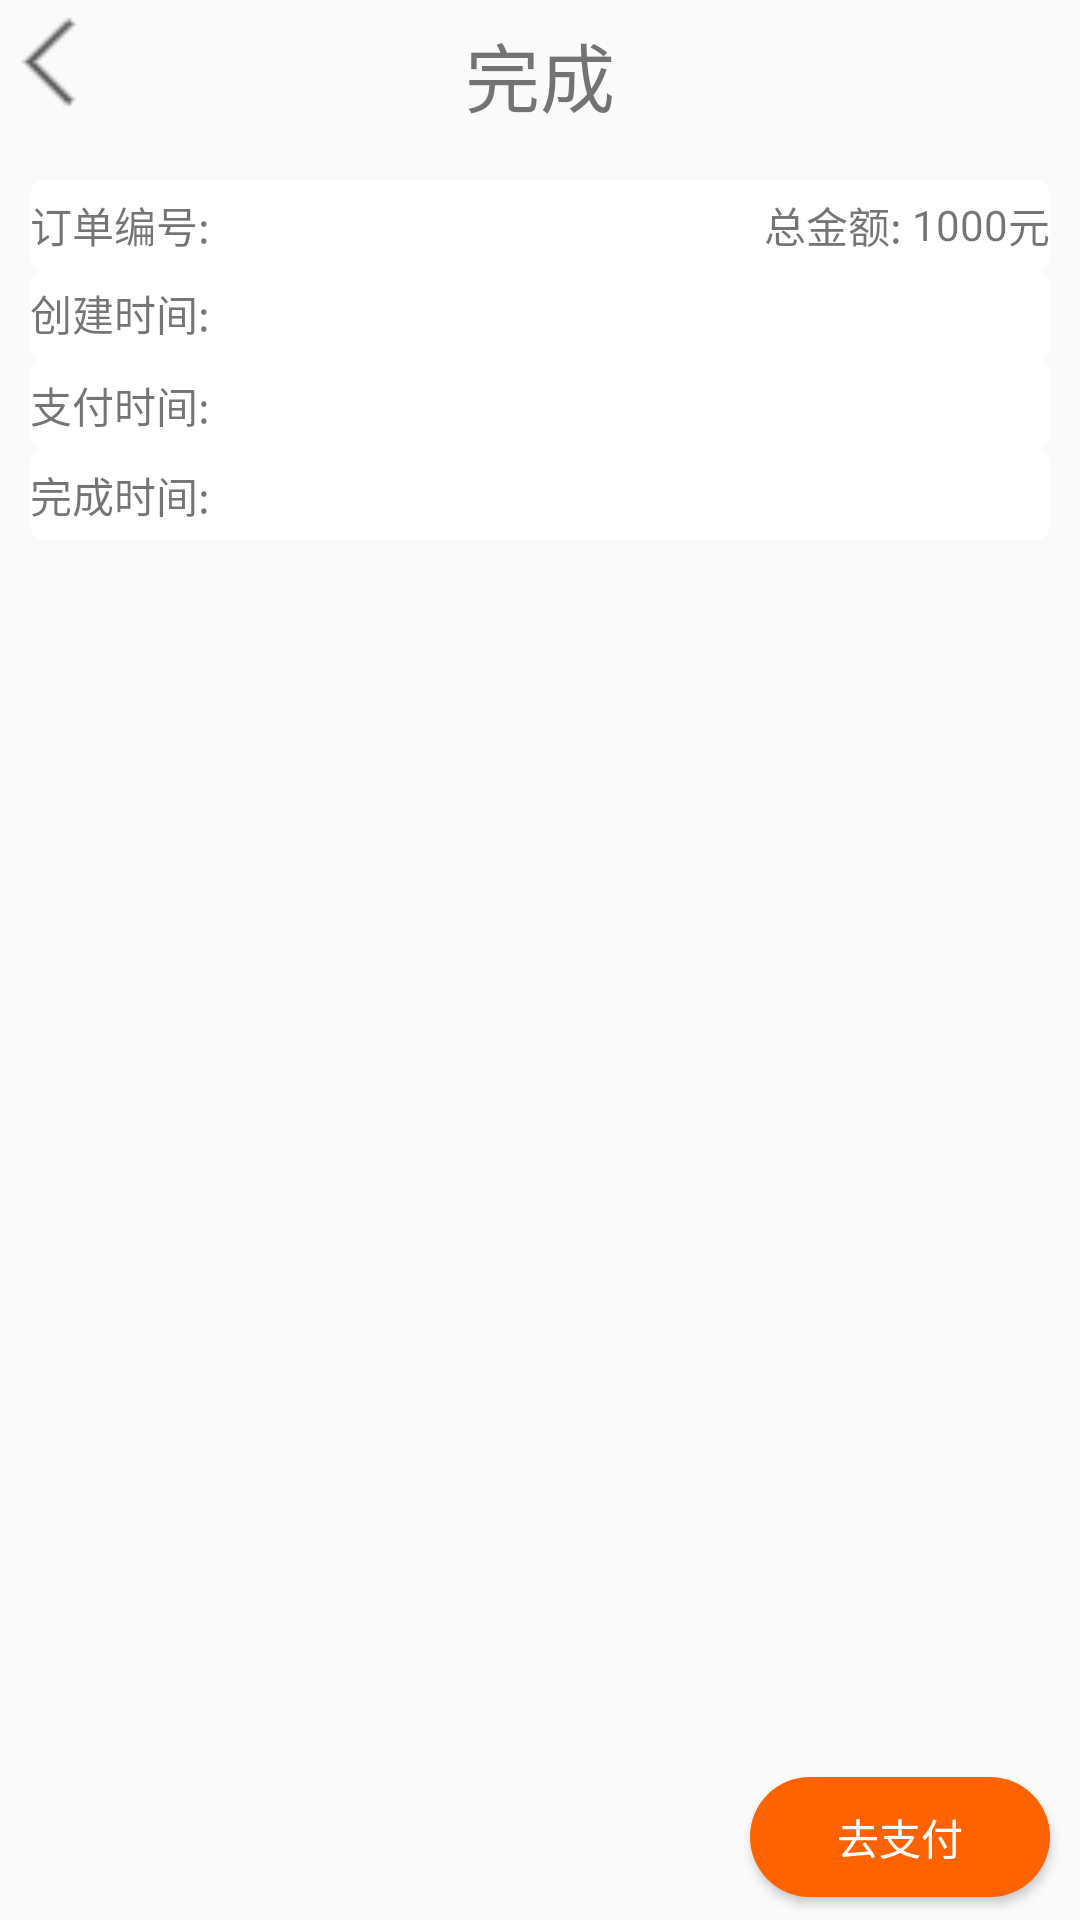

Screen size 1080px×1920px. Icon name, then its box in pixels as [x1, y1, x2, y2]:
back: [23, 18, 76, 106]
